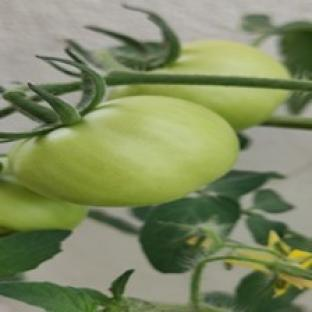Tomato: (10, 97, 238, 206), (111, 85, 288, 129), (0, 169, 87, 235)
